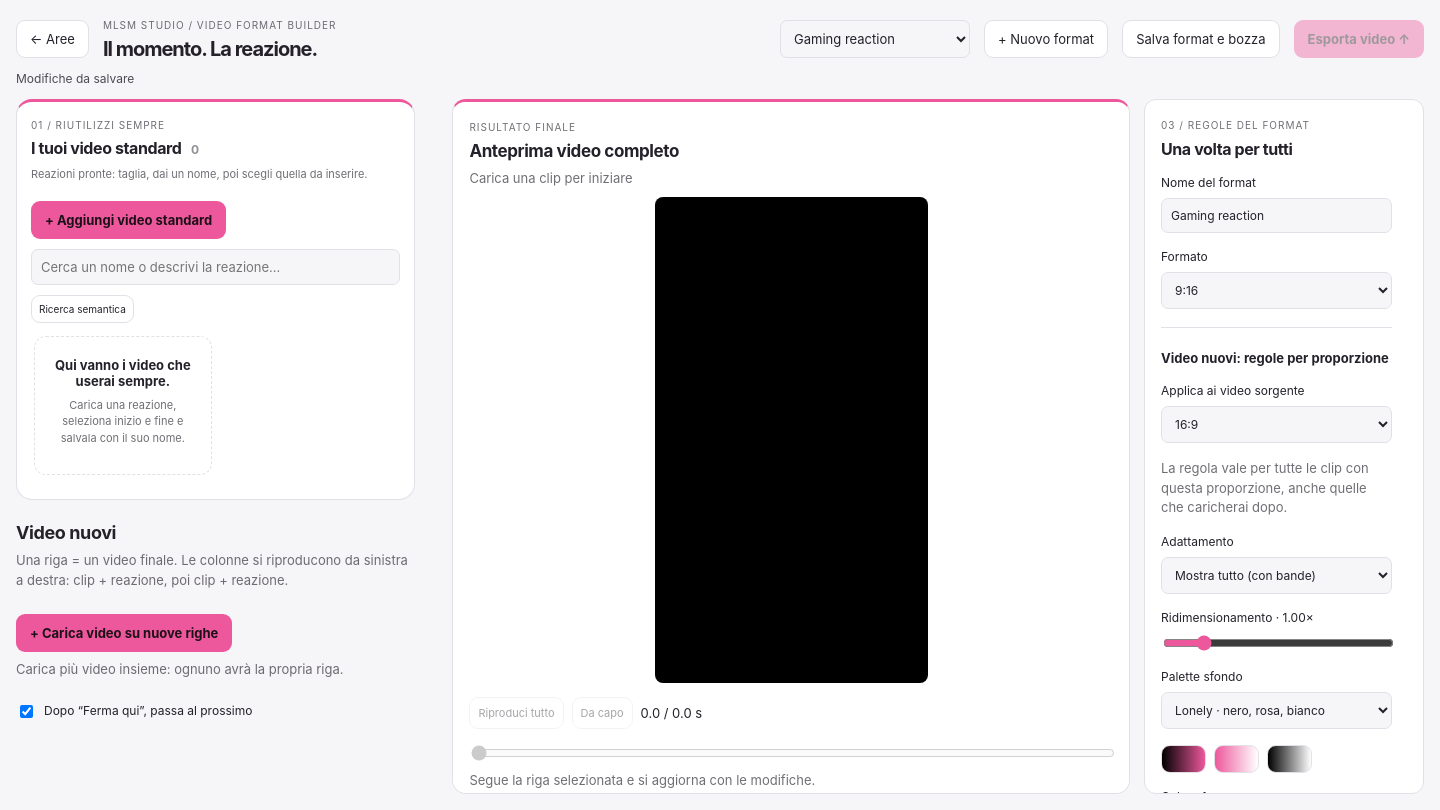
Test: keeps the draft open when saving fails
The image size is (1440, 810).
Click the button "← Aree": (52, 38) [16, 20, 89, 58]
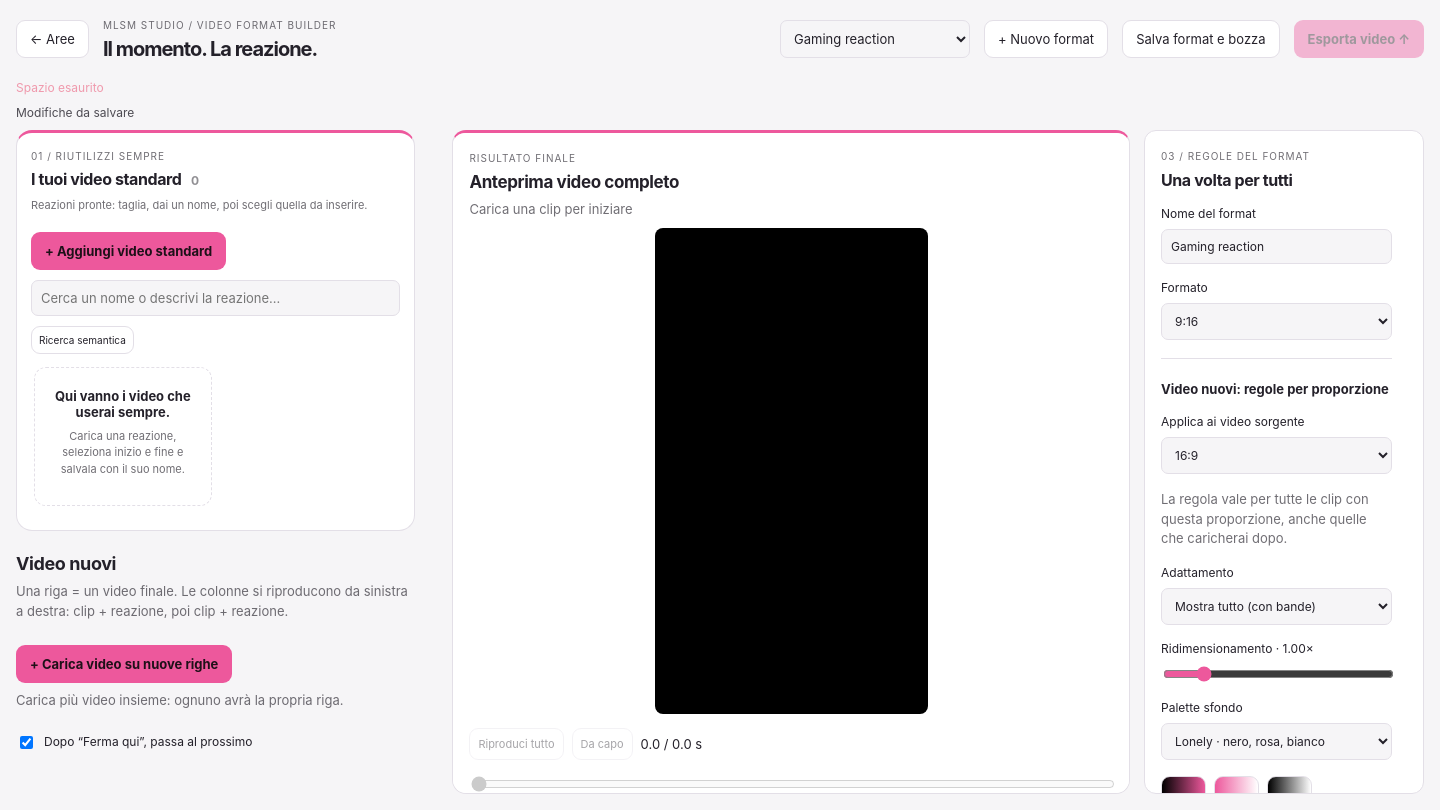
Expected: the message "Spazio esaurito" is shown, [16, 80, 104, 95]
